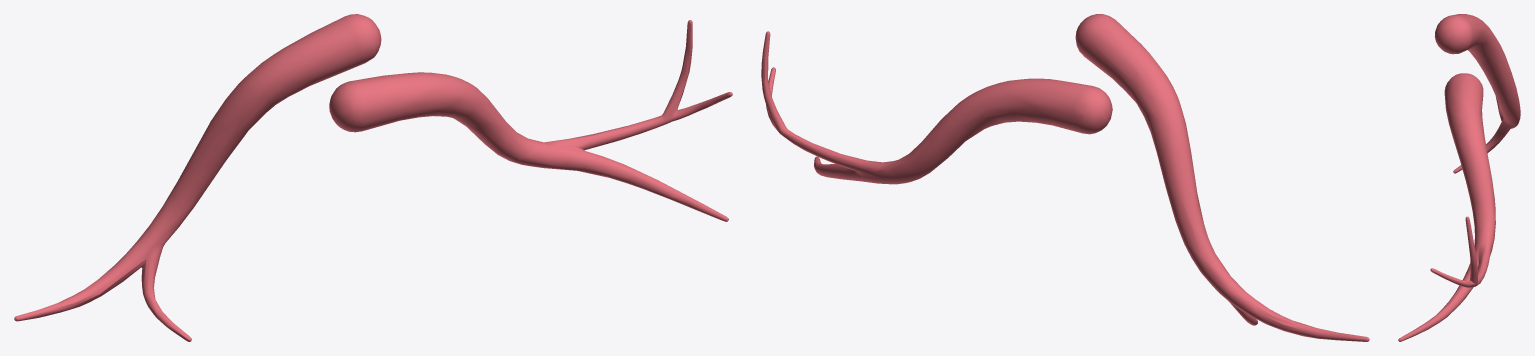
File: fma22563_fj2084.glb
3 views of the same model, side by side, from view 1: azimuth 30°, elevation 25°; view 2: azimuth 150°, elevation 25°; view 3: azimuth 270°, elevation 25° (orthographic). The views are drawn at different scales.
Parts seen in each view (by area): view 1: FMA22563_FJ2084; view 2: FMA22563_FJ2084; view 3: FMA22563_FJ2084.
Boxes of the visible parts, box(x1,y1,x2,y2) form: FMA22563_FJ2084: box(14, 14, 732, 341); FMA22563_FJ2084: box(761, 14, 1369, 341); FMA22563_FJ2084: box(1398, 14, 1520, 341).
Size of the model in its own units: 0.0672 by 0.0271 by 0.0138.
